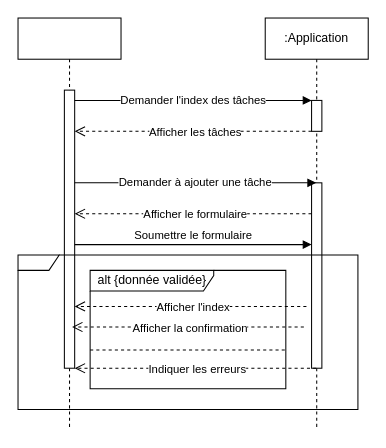
Image size: 386x448. Some labels were removed from this diagram. Here are the shapes that lost their labels. From the top down, the box of each, then its label:
(17, 17, 121, 430): :Utilisateur
(17, 254, 358, 409): opt
